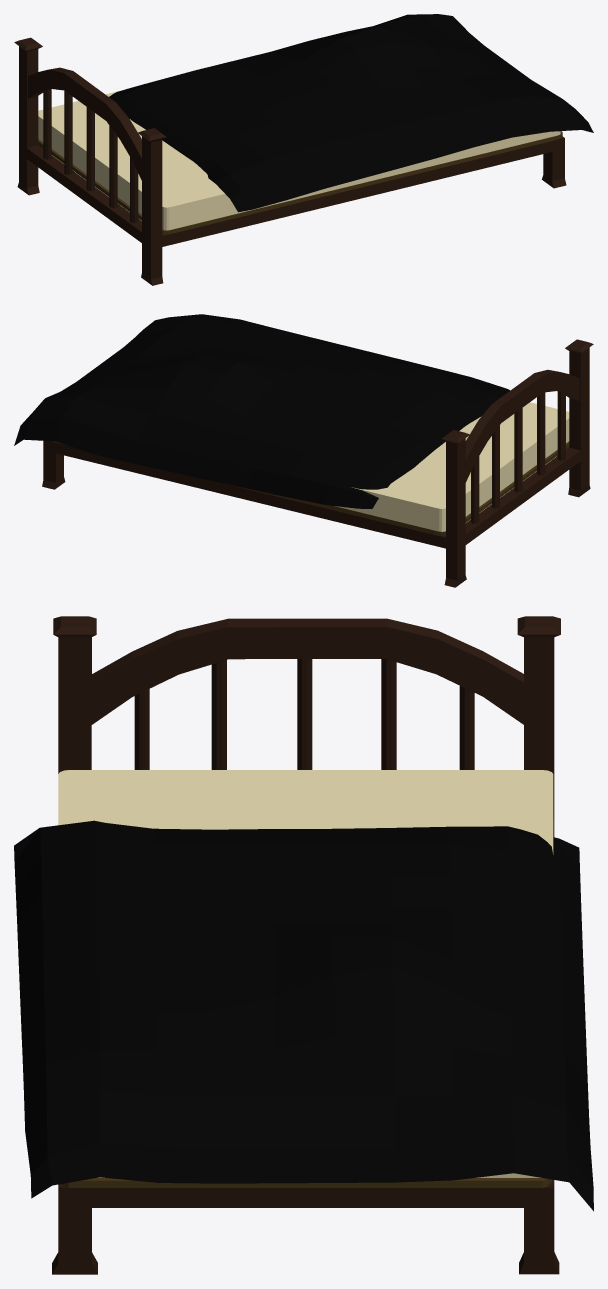
Rendered from Bed.fbx.
3 views of the same model, one above another, from view 1: azimuth 30°, elevation 25°; view 2: azimuth 150°, elevation 25°; view 3: azimuth 270°, elevation 25° (orthographic). The views are drawn at different scales.
Parts seen in each view (by area): view 1: Duvet Cover.001, Base, Mattress.001, Support.001; view 2: Duvet Cover.001, Base, Mattress.001, Support.001; view 3: Duvet Cover.001, Base, Mattress.001, Support.001.
Part boxes in pixels (x1,y1,x2,y2): Duvet Cover.001: (109, 14, 593, 212); Base: (14, 37, 566, 285); Mattress.001: (38, 90, 560, 230); Support.001: (38, 131, 562, 234); Duvet Cover.001: (14, 314, 509, 508); Base: (42, 339, 593, 587); Mattress.001: (335, 402, 569, 531); Support.001: (54, 441, 569, 535); Duvet Cover.001: (14, 820, 593, 1211); Base: (52, 616, 560, 1274); Mattress.001: (58, 770, 553, 1177); Support.001: (61, 1178, 551, 1187).
Bounding box in the file's own units: 1554 × 502 × 946.
Materials: 1 (1 with a texture image).
